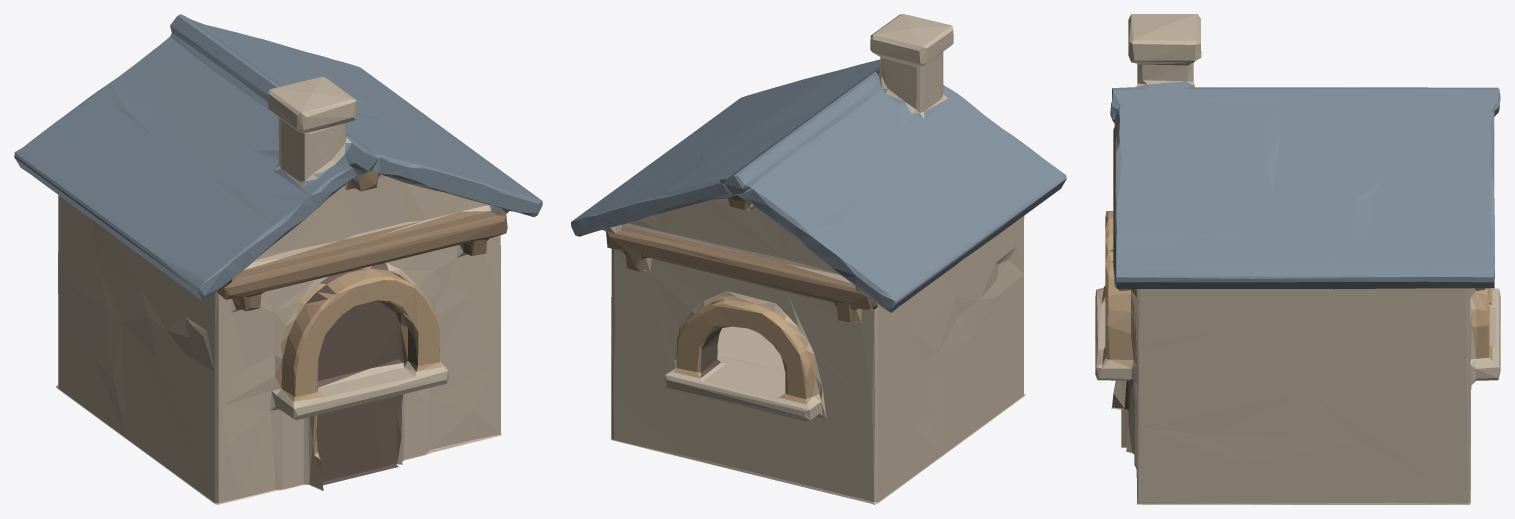
3 views of the same model, side by side, from view 1: azimuth 30°, elevation 25°; view 2: azimuth 150°, elevation 25°; view 3: azimuth 270°, elevation 25° (orthographic). The views are drawn at different scales.
Visible parts, largest first — view 1: geometry_0; view 2: geometry_0; view 3: geometry_0.
Boxes of the visible parts, box(x1,y1,x2,y2) form: geometry_0: box(14, 14, 542, 504); geometry_0: box(571, 14, 1066, 504); geometry_0: box(1095, 14, 1500, 504).
Bounding box in the file's own units: 0.912 × 0.9418 × 0.8879.
